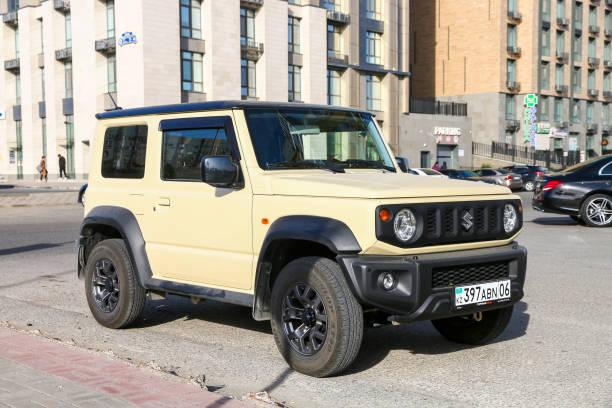suzuki: (458, 204, 479, 236)
